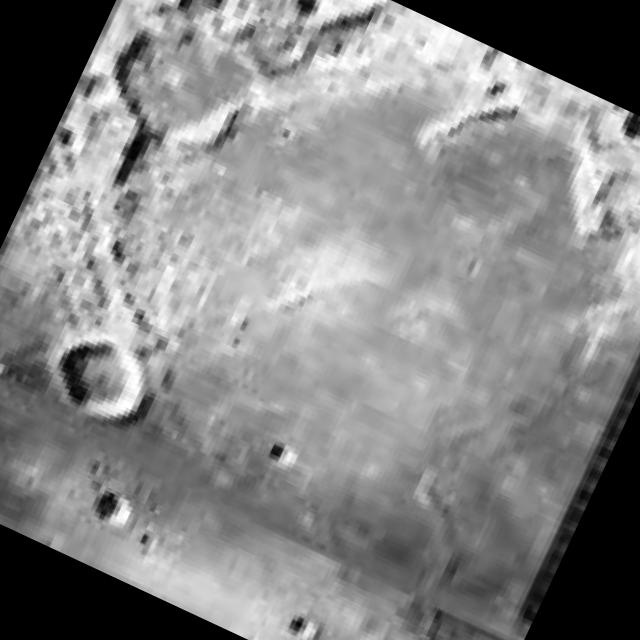crater: (40, 318, 166, 435), (92, 488, 140, 533)
